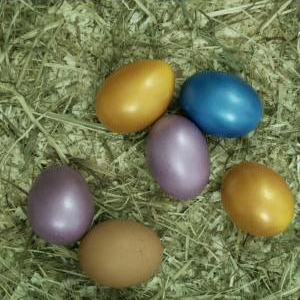egg: (79, 219, 164, 290), (97, 61, 175, 134), (223, 162, 295, 239), (146, 116, 211, 201), (181, 72, 264, 138), (27, 166, 95, 245)
